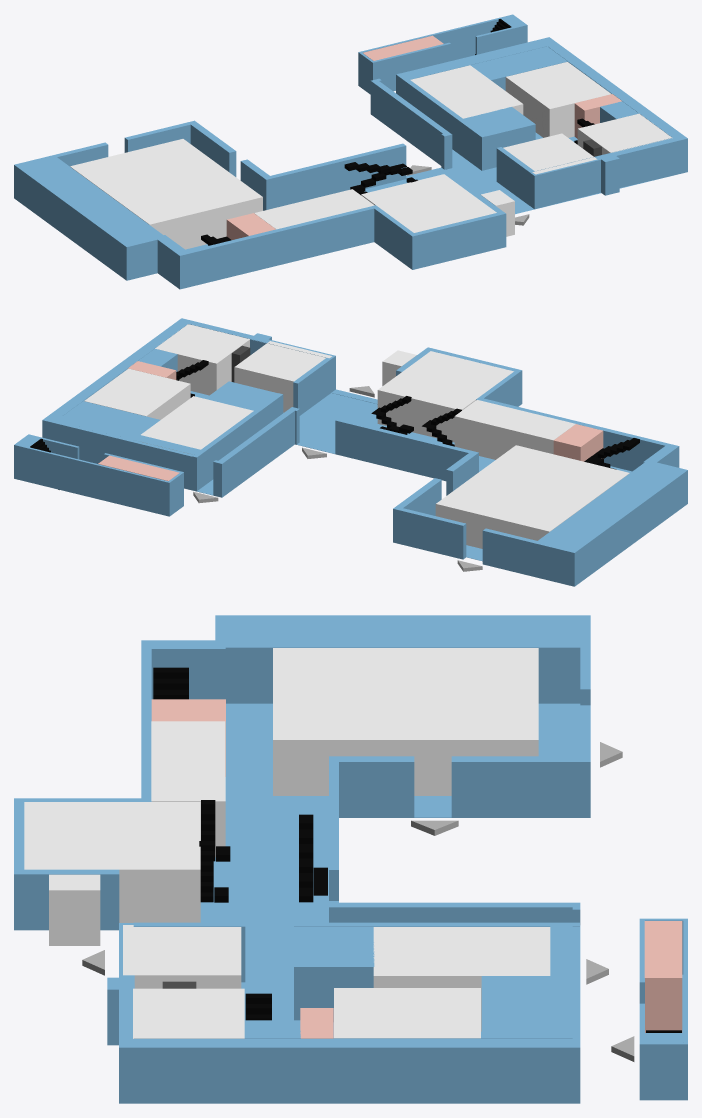
3 views of the same model, one above another, from view 1: azimuth 30°, elevation 25°; view 2: azimuth 150°, elevation 25°; view 3: azimuth 270°, elevation 25° (orthographic). The views are drawn at different scales.
Parts seen in each view (by area): view 1: object, 教務課第1事務室, 保健室, 410, 学生生活課, キャンパスハラスメント対策室, 経理課_4_1_1, 障がい学生支援室, 階段_4_1_3, 女子トイレ_4_1_2, 男子トイレ_4_1_1, 女子トイレ_4_1_1 (+1 smaller); view 2: object, 教務課第1事務室, 410, 経理課_4_1_1, キャンパスハラスメント対策室, 保健室, 学生生活課, 障がい学生支援室, 女子トイレ_4_1_2, 女子トイレ_4_1_1, 階段_4_1_6, 倉庫 (+3 smaller); view 3: object, 教務課第1事務室, 410, 学生生活課, 保健室, 障がい学生支援室, 経理課_4_1_1, キャンパスハラスメント対策室, 女子トイレ_4_1_1, 倉庫, 女子トイレ_4_1_2, 階段_4_1_3 (+5 smaller).
Part boxes in pixels (bbox=[...]): object: bbox=[14, 14, 687, 289]; 教務課第1事務室: bbox=[70, 139, 262, 249]; 保健室: bbox=[505, 62, 611, 137]; 410: bbox=[361, 174, 496, 232]; 学生生活課: bbox=[410, 65, 523, 118]; キャンパスハラスメント対策室: bbox=[577, 113, 672, 154]; 経理課_4_1_1: bbox=[254, 189, 374, 229]; 障がい学生支援室: bbox=[503, 133, 597, 174]; 階段_4_1_3: bbox=[344, 162, 412, 191]; 女子トイレ_4_1_2: bbox=[226, 213, 275, 239]; 男子トイレ_4_1_1: bbox=[574, 94, 621, 138]; 女子トイレ_4_1_1: bbox=[363, 35, 443, 60]; object: bbox=[14, 318, 687, 586]; 教務課第1事務室: bbox=[435, 445, 629, 548]; 410: bbox=[377, 351, 513, 442]; 経理課_4_1_1: bbox=[454, 400, 575, 459]; キャンパスハラスメント対策室: bbox=[155, 324, 249, 395]; 保健室: bbox=[84, 368, 190, 419]; 学生生活課: bbox=[141, 396, 253, 453]; 障がい学生支援室: bbox=[234, 341, 332, 412]; 女子トイレ_4_1_2: bbox=[553, 424, 603, 461]; 女子トイレ_4_1_1: bbox=[98, 455, 179, 481]; 階段_4_1_6: bbox=[584, 438, 639, 469]; 倉庫: bbox=[382, 350, 416, 385]; object: bbox=[14, 615, 687, 1103]; 教務課第1事務室: bbox=[273, 648, 538, 795]; 410: bbox=[24, 802, 200, 922]; 学生生活課: bbox=[373, 927, 550, 1031]; 保健室: bbox=[334, 988, 480, 1038]; 障がい学生支援室: bbox=[123, 925, 241, 988]; 経理課_4_1_1: bbox=[151, 721, 225, 857]; キャンパスハラスメント対策室: bbox=[133, 988, 244, 1038]; 女子トイレ_4_1_1: bbox=[644, 921, 682, 1032]; 倉庫: bbox=[49, 874, 100, 945]; 女子トイレ_4_1_2: bbox=[151, 699, 225, 776]; 階段_4_1_3: bbox=[299, 814, 327, 902].
Size of the model in its own units: 2.72 by 0.1813 by 1.79.
